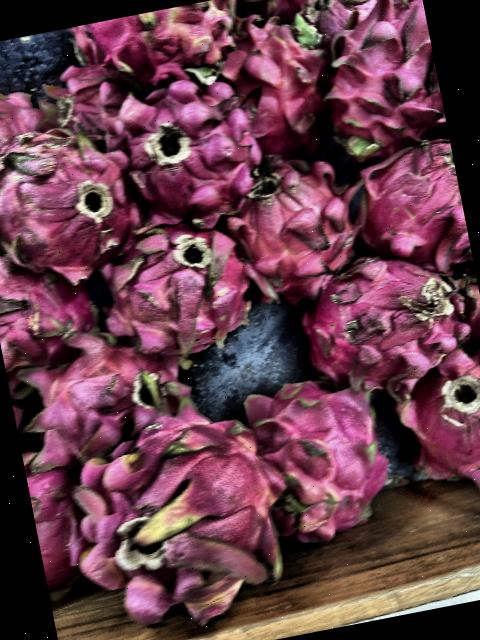buah-naga-matang: (62, 398, 295, 626), (231, 363, 405, 556), (105, 70, 271, 224), (15, 320, 192, 457), (296, 244, 469, 383), (0, 116, 142, 284), (100, 219, 258, 357), (224, 150, 368, 298), (310, 0, 448, 152), (353, 128, 472, 274), (216, 10, 330, 154), (65, 0, 247, 88), (0, 228, 108, 368), (388, 347, 480, 511), (0, 59, 65, 207), (29, 62, 122, 145)
